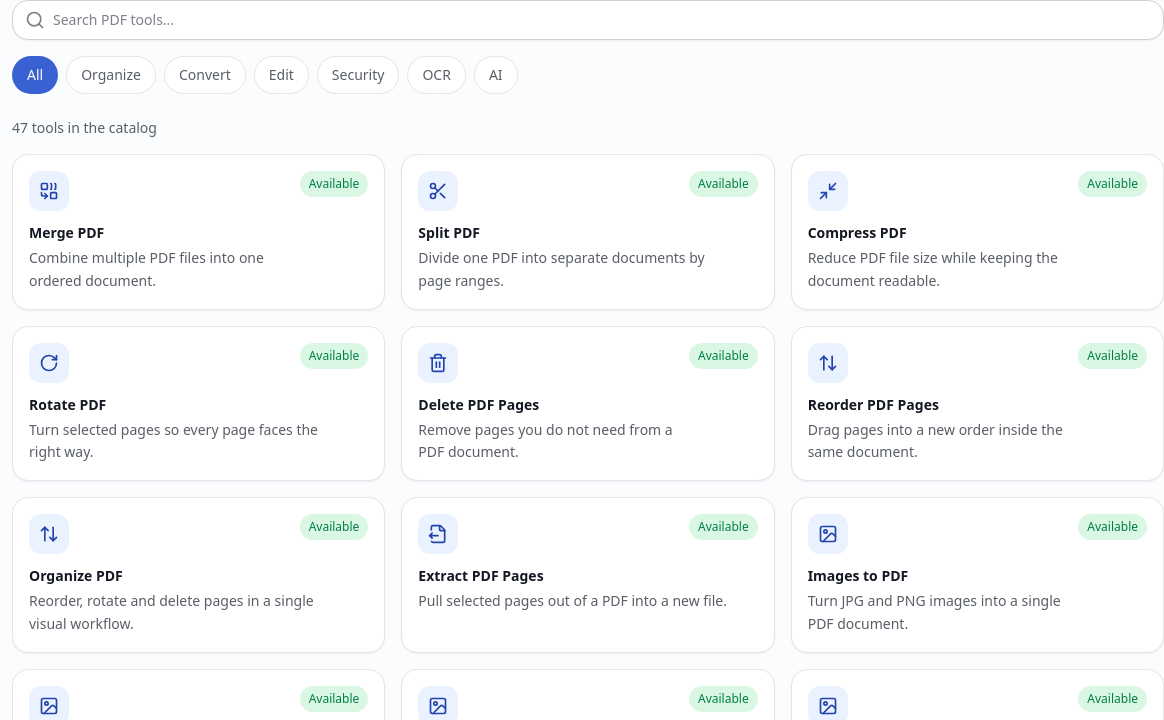
Test case: ToolExplorer › filters by category
Click the button "Security". click: (358, 75)
box: left=317, top=56, right=399, bottom=94
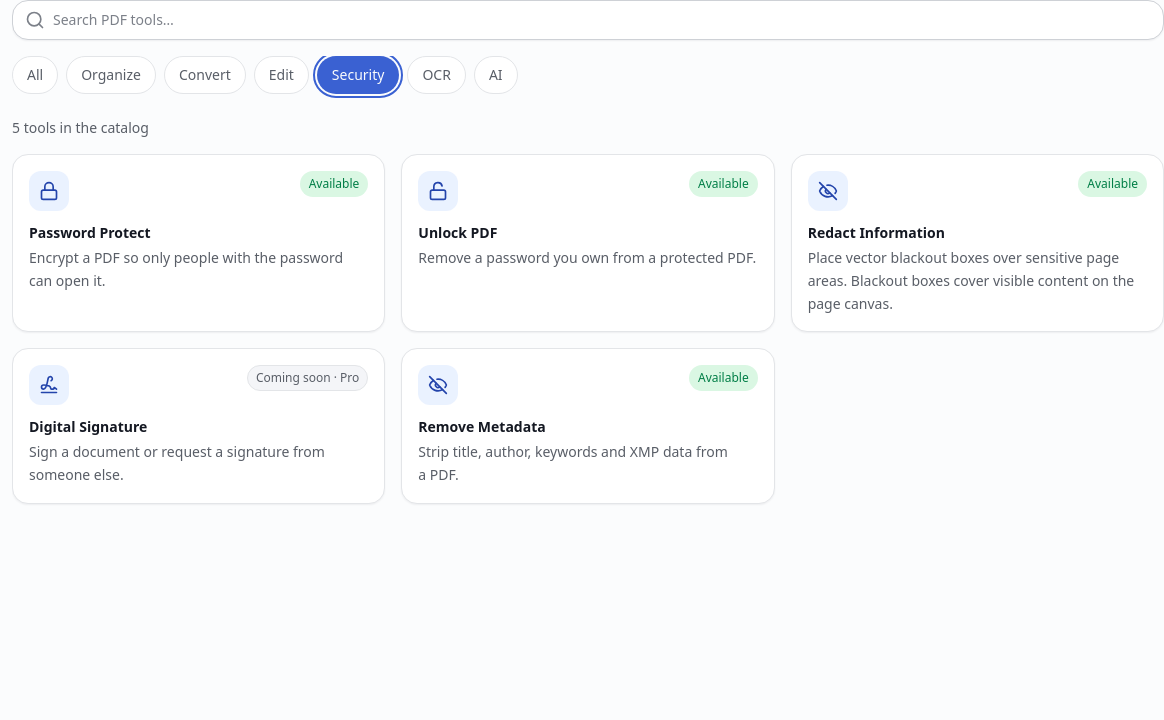
Expected: the link "Password Protect" is shown, left=12, top=154, right=385, bottom=332
Expected: the link "Merge PDF" is gone
